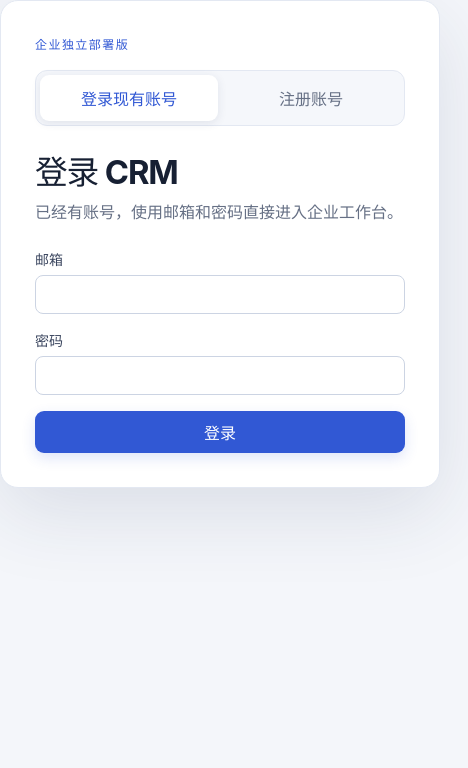
LoginPage › switches between existing-account login and registration
The width and height of the screenshot is (468, 768).
expect the heading "登录 CRM" is shown: met, box [35,152,178,192]
Click the button "注册账号" at (311,98), box [222,75,400,121]
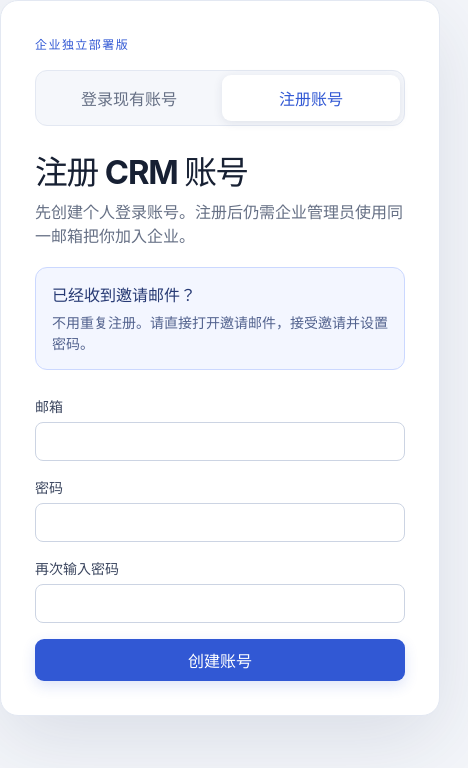
expect the heading "注册 CRM 账号" is shown: met, box [35,152,247,192]
expect the password field labelled "再次输入密码" is shown: met, box [35,584,405,623]
expect the text "注册后仍需企业管理员使用同一邮箱把你加入企业。" is shown: met, box [35,202,403,246]
